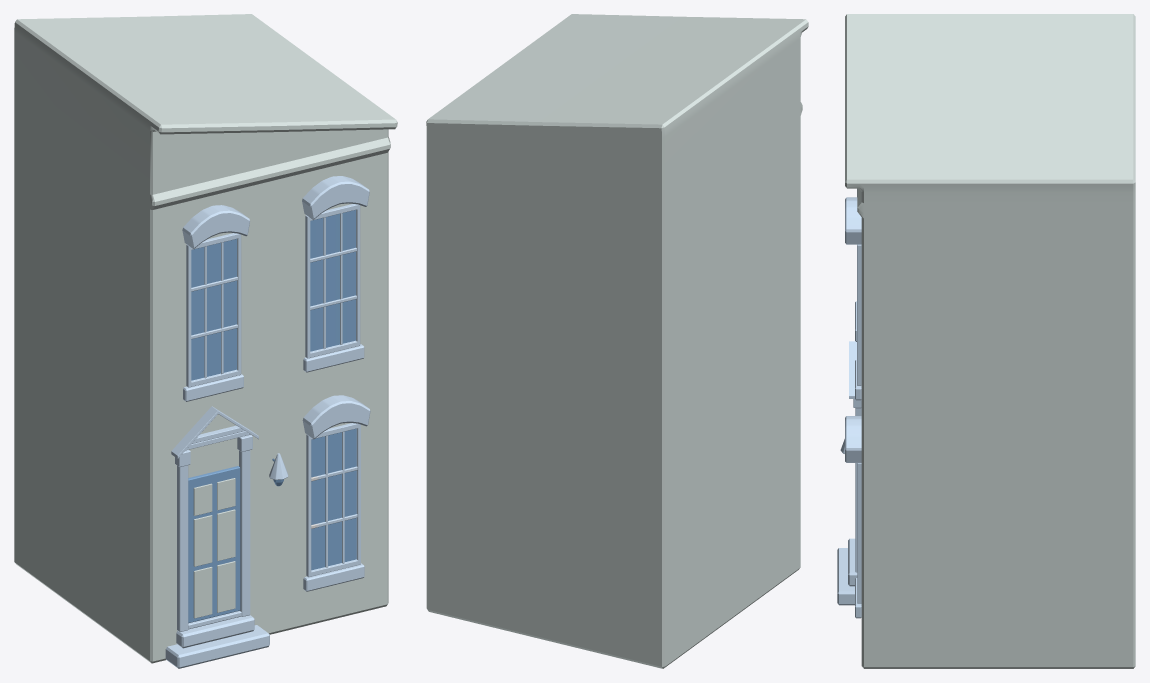
Rendered from TimHouse2-UV.fbx.
3 views of the same model, side by side, from view 1: azimuth 30°, elevation 25°; view 2: azimuth 150°, elevation 25°; view 3: azimuth 270°, elevation 25° (orthographic).
Parts seen in each view (by area): view 1: polySurface202; view 2: polySurface202; view 3: polySurface202.
Boxes of the visible parts, x1,y1,x2,y2 form: polySurface202: (14, 14, 397, 668); polySurface202: (426, 14, 808, 668); polySurface202: (837, 14, 1135, 668).
Size of the model in its own units: 5.07 by 11.03 by 5.51.
